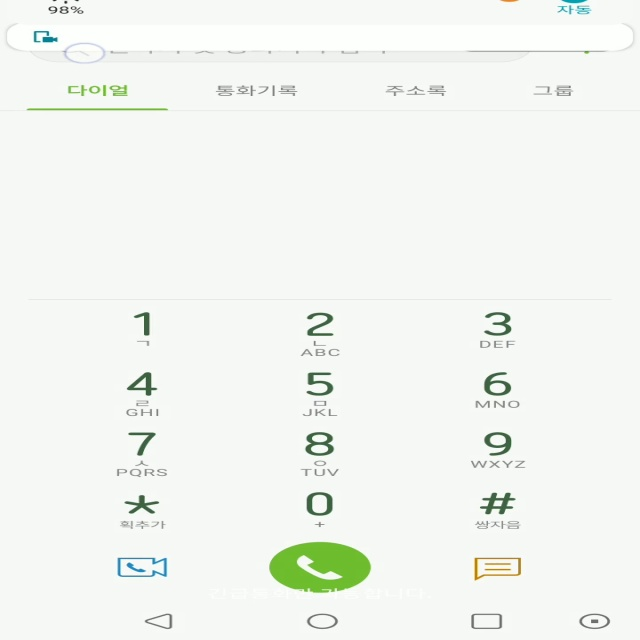Cursor: (63, 42, 107, 65)
